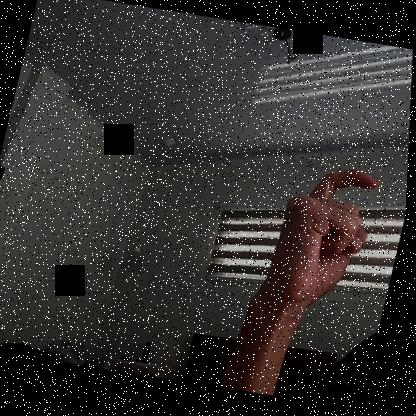X: (251, 156, 386, 323)
